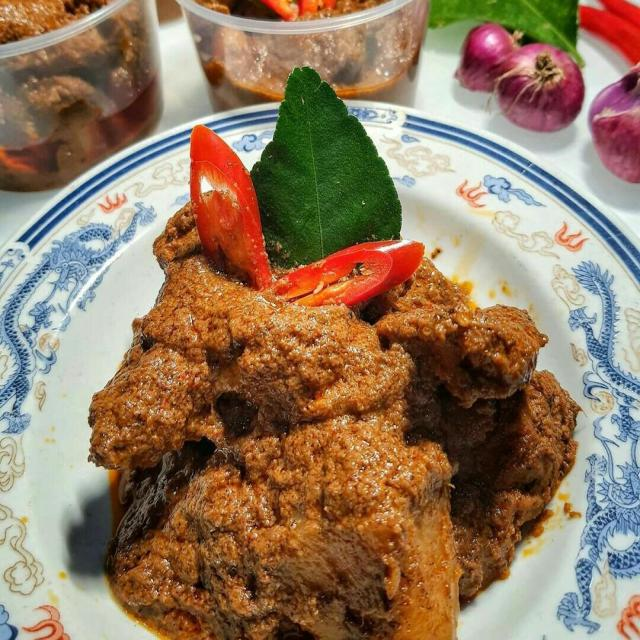Rendang: (80, 202, 584, 640)
